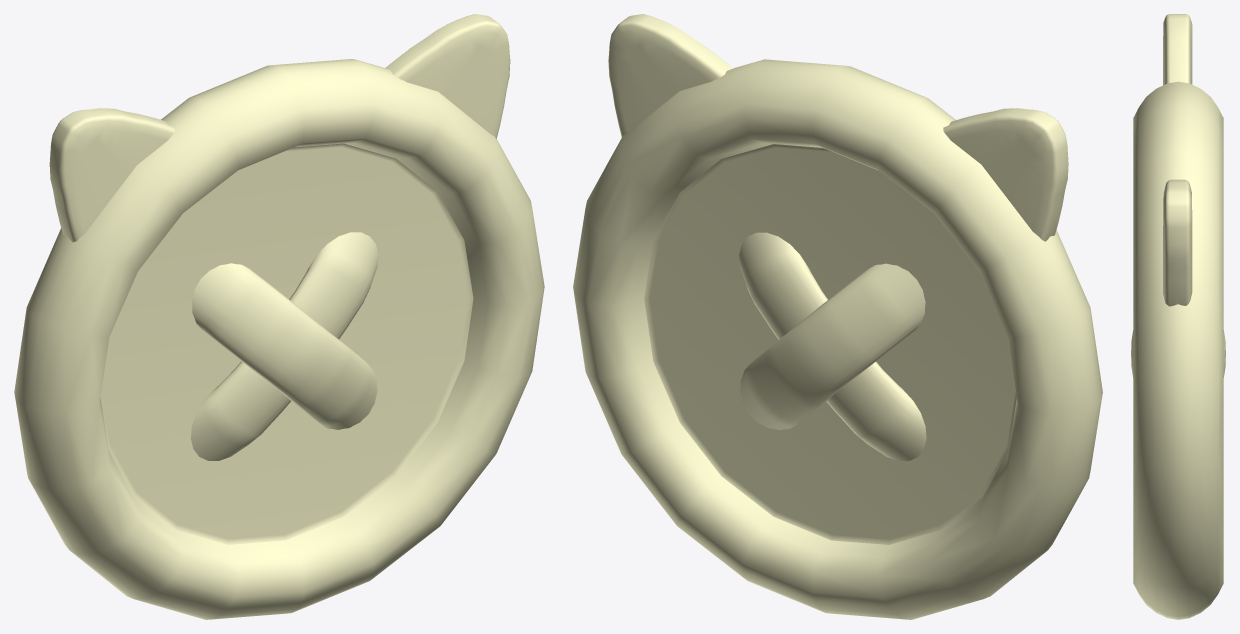
File: NormalButtonCoin.glb
3 views of the same model, side by side, from view 1: azimuth 30°, elevation 25°; view 2: azimuth 150°, elevation 25°; view 3: azimuth 270°, elevation 25° (orthographic). The views are drawn at different scales.
Visible parts, largest first — view 1: NormalButtonCoin; view 2: NormalButtonCoin; view 3: NormalButtonCoin.
Part boxes in pixels (x1=…): NormalButtonCoin: x1=14, y1=14, x2=544, y2=619; NormalButtonCoin: x1=573, y1=14, x2=1102, y2=619; NormalButtonCoin: x1=1131, y1=14, x2=1225, y2=619.
Bounding box in the file's own units: 1.2 × 1.2 × 0.2099.
